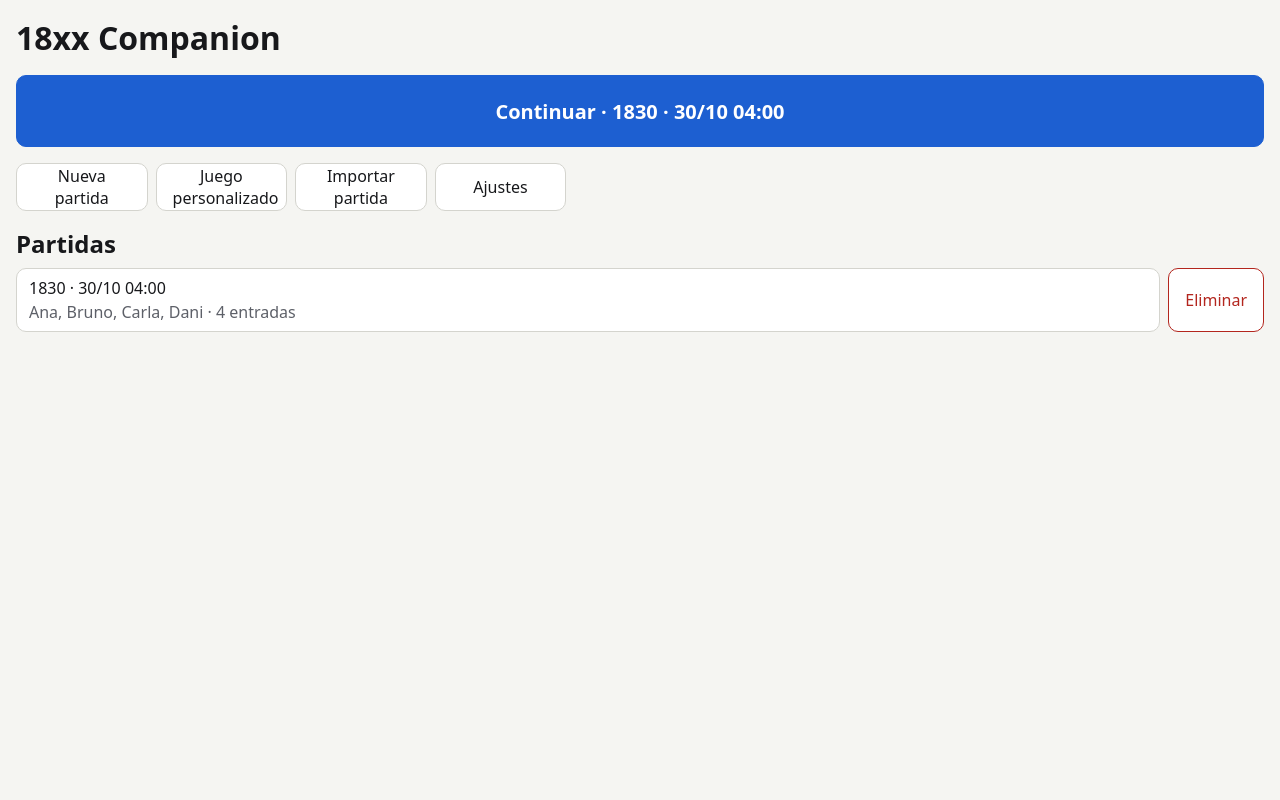
Test: US1: the summary sheet › is in the round controls during an OR and lists each player's start, now and amount with chips
Click the button "Continuar · 1830 · 30/10 04:00" at (640, 111), box [16,75,1264,147]
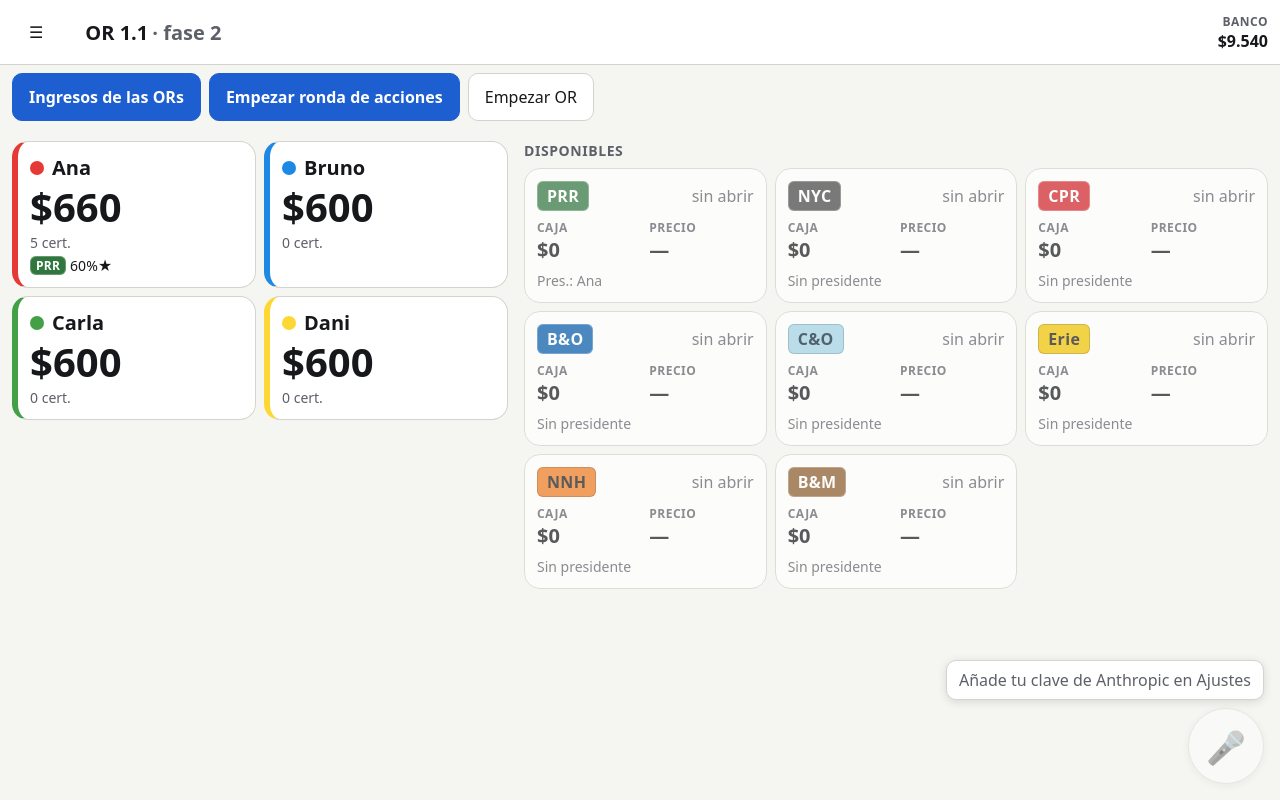
Result: the button named "Menú" is shown at [12,8,60,56]
Click the button "Ingresos de las ORs" at (106, 97), box [12,73,201,121]
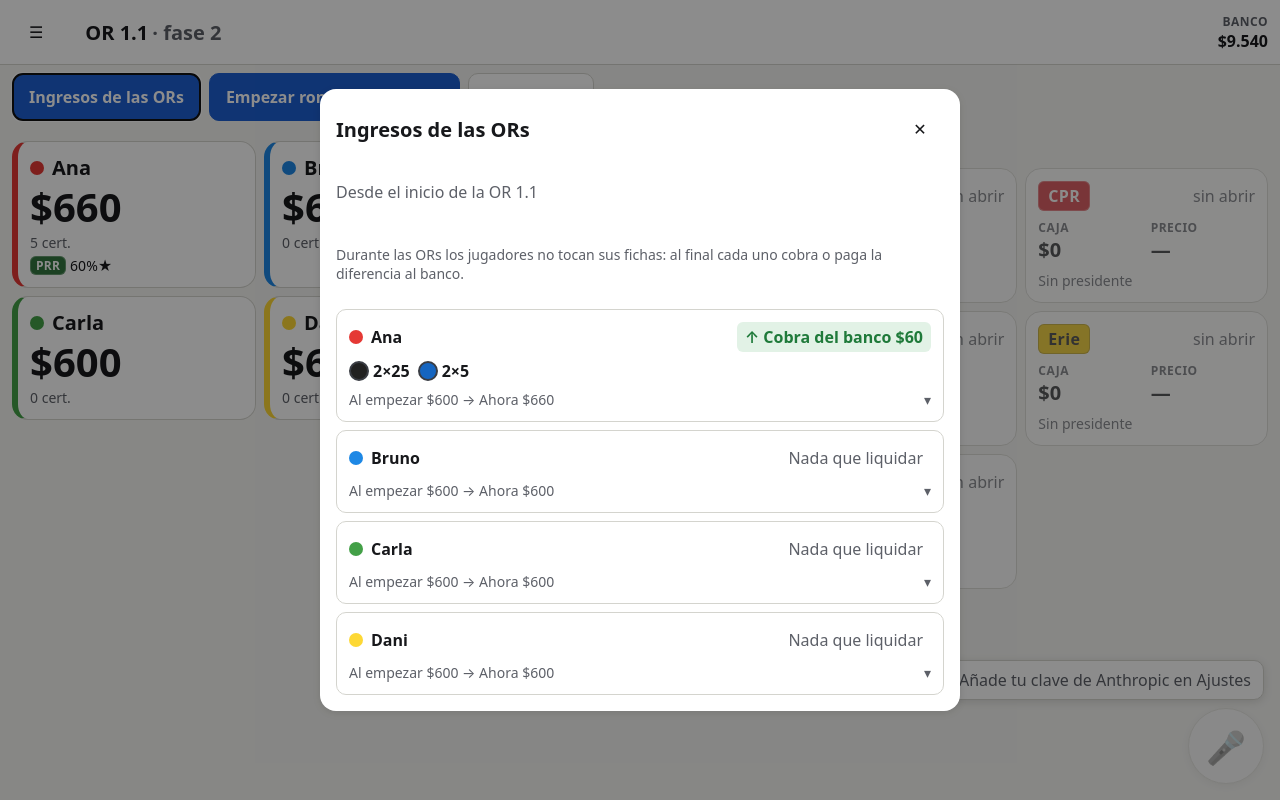
Result: the text "Durante las ORs los jugadores no tocan sus fichas: al final cada uno cobra o paga la diferencia al banco." is shown at [336,245,882,283]
